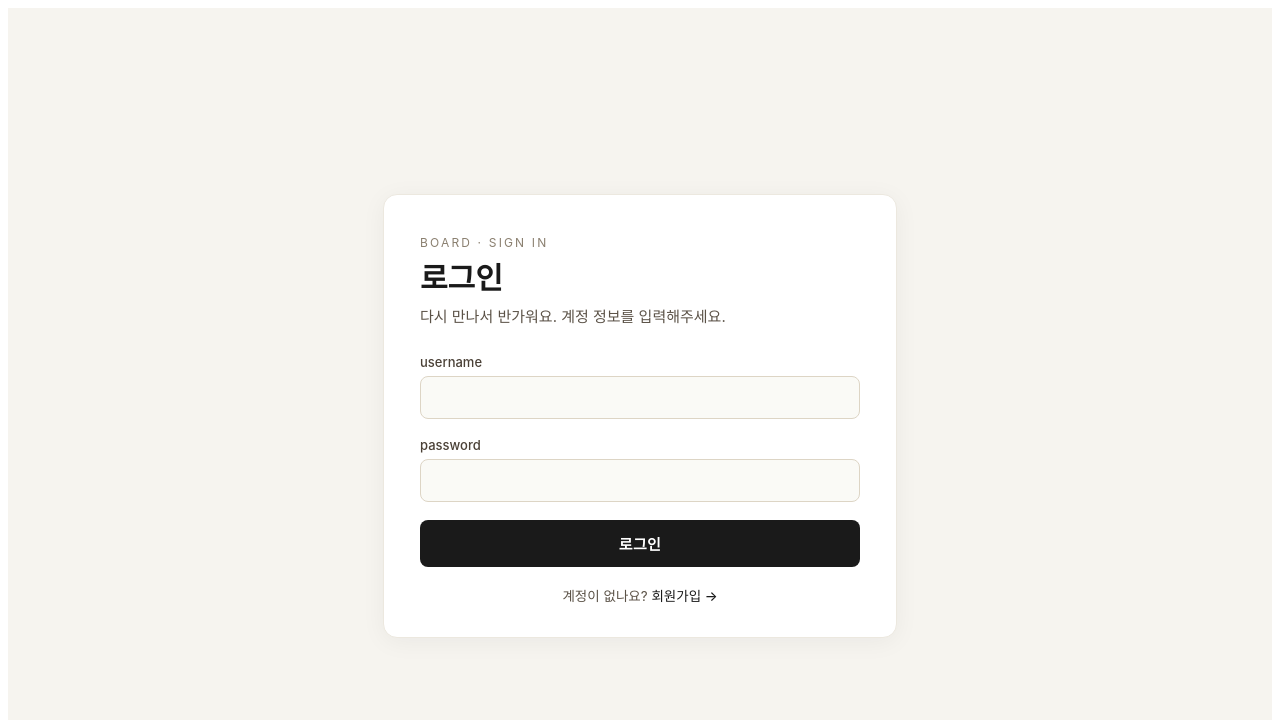
Test: LoginPage › 500_응답이면_일반_오류_메시지를_렌더하고_홈으로_가지_않는다
Type "marco" into the field labelled "username" at (640, 397), box [420,376,860,419]
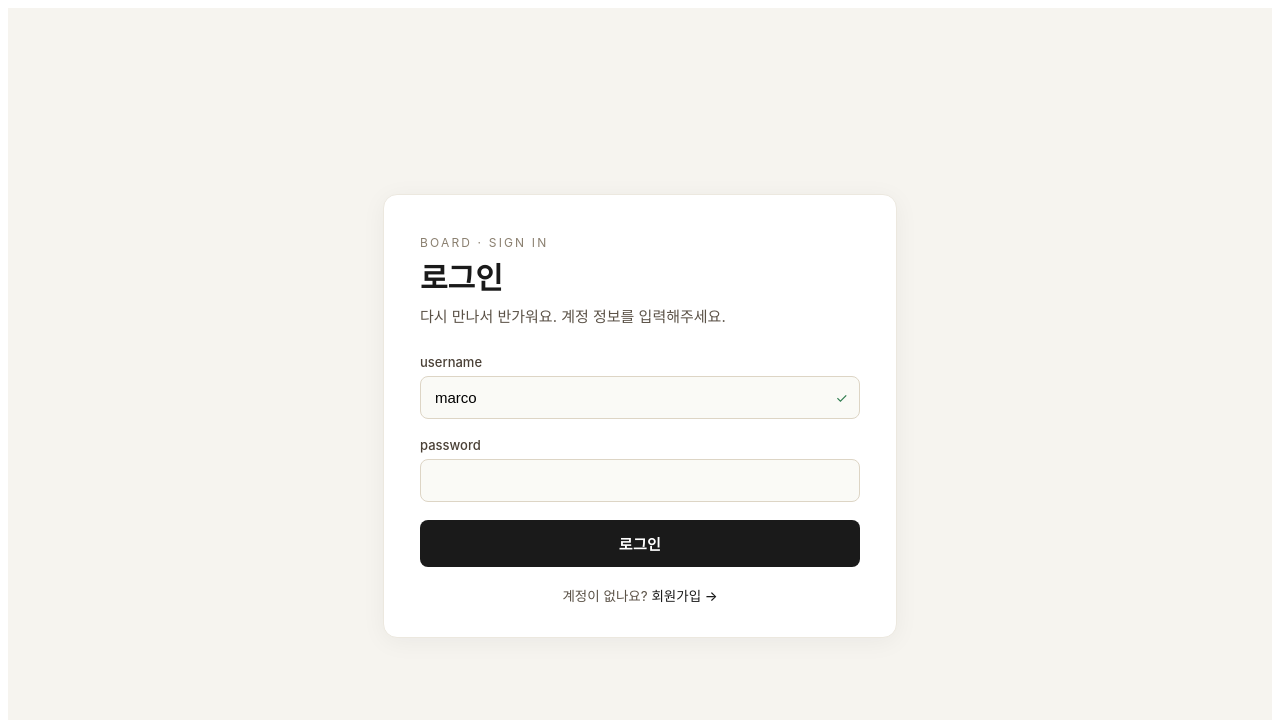
Type "pw12345" into the password field labelled "password" at (640, 480), box [420,459,860,502]
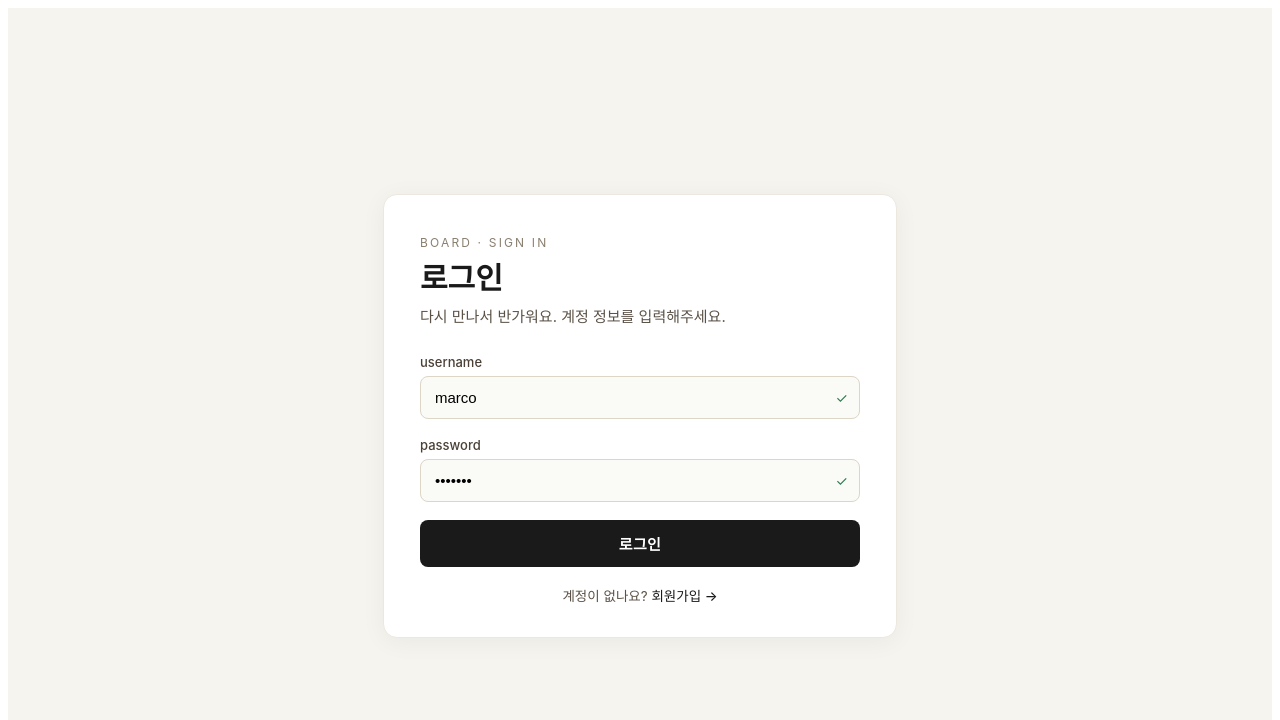
Click the button "로그인" at (640, 543), box [420,520,860,567]
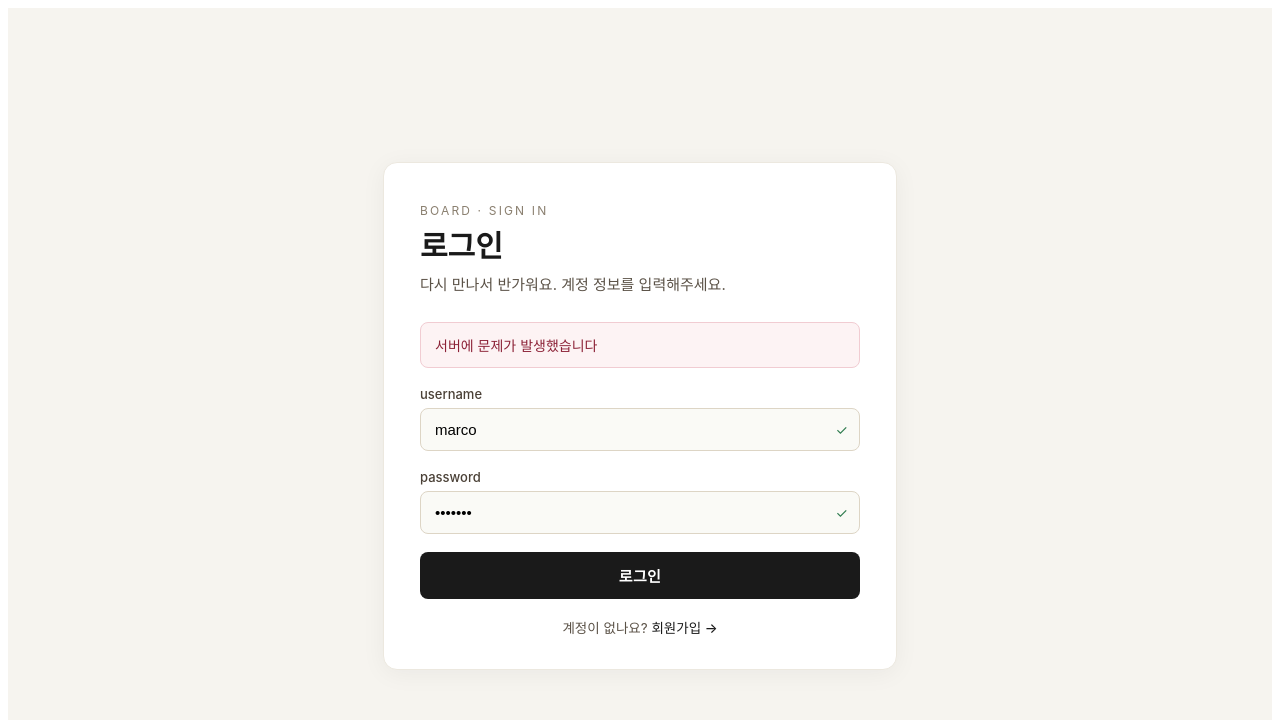
Result: the text "서버에 문제가 발생했습니다" is shown at [420,322,860,368]
